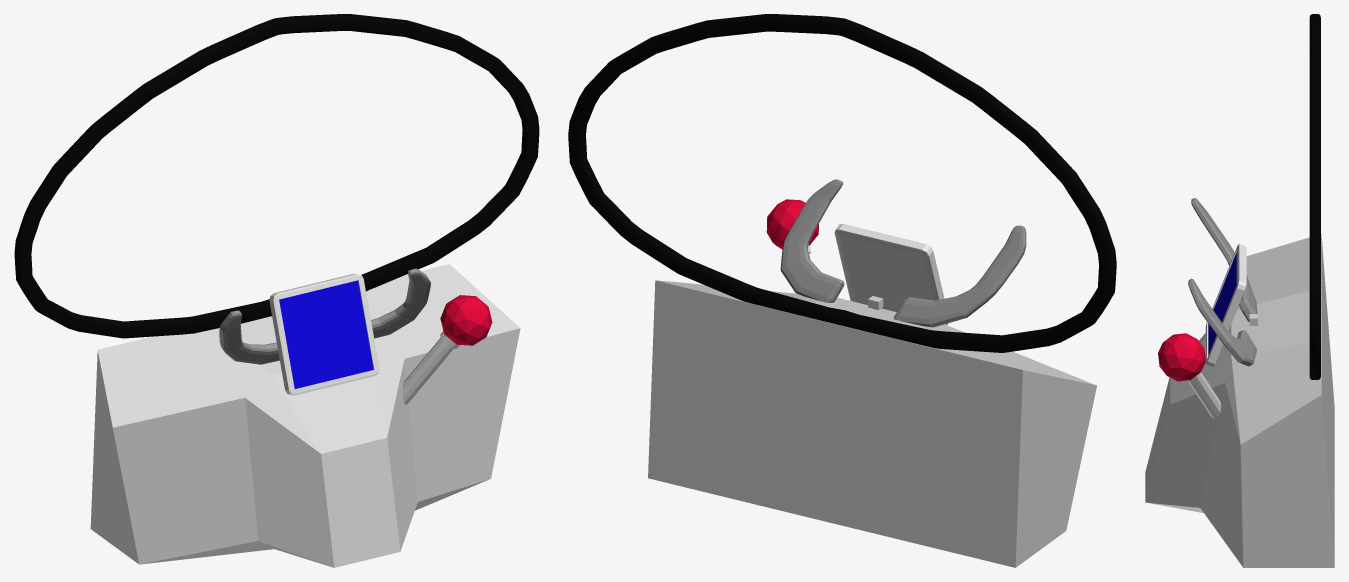
Rendered from cockpit.fbx.
3 views of the same model, side by side, from view 1: azimuth 30°, elevation 25°; view 2: azimuth 150°, elevation 25°; view 3: azimuth 270°, elevation 25° (orthographic). The views are drawn at different scales.
Parts seen in each view (by area): view 1: Cube.001, Cube.003, display, Cube, Cylinder; view 2: Cube.001, Cube.003, Cube, display, Cylinder; view 3: Cube.001, Cube.003, Cube, Cylinder, display.
Boxes of the visible parts, x1,y1,x2,y2 form: Cube.001: (90, 264, 520, 567); Cube.003: (14, 14, 539, 338); display: (269, 273, 379, 395); Cube: (219, 268, 430, 364); Cylinder: (402, 295, 492, 404); Cube.001: (648, 280, 1096, 567); Cube.003: (568, 14, 1116, 352); Cube: (780, 179, 1026, 327); display: (834, 223, 947, 324); Cylinder: (766, 199, 818, 259); Cube.001: (1145, 234, 1334, 567); Cube.003: (1309, 14, 1320, 379); Cube: (1188, 198, 1257, 366); Cylinder: (1158, 333, 1221, 418); display: (1205, 244, 1246, 366).
Bounding box in the file's own units: 818 × 711 × 274.
